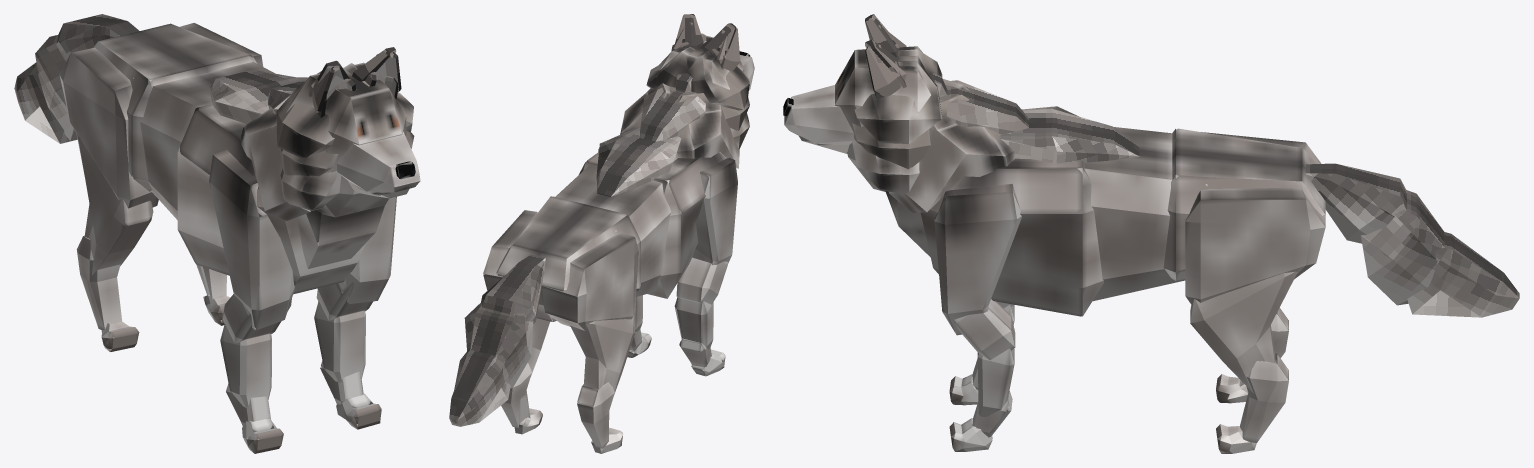
Rendered from LoupGrisMarron.fbx.
3 views of the same model, side by side, from view 1: azimuth 30°, elevation 25°; view 2: azimuth 150°, elevation 25°; view 3: azimuth 270°, elevation 25° (orthographic). The views are drawn at different scales.
Visible parts, largest first — view 1: beveled_cuboid_1, beveled_cuboid_6, beveled_cuboid, beveled_cuboid_20, beveled_cuboid_25, beveled_cuboid_2, beveled_cuboid_17, beveled_cuboid_24, beveled_cuboid_26, beveled_cuboid_53, beveled_cuboid_10, beveled_cuboid_7 (+23 smaller); view 2: beveled_cuboid, beveled_cuboid_20, beveled_cuboid_2, beveled_cuboid_1, beveled_cuboid_49, beveled_cuboid_6, beveled_cuboid_22, beveled_cuboid_23, beveled_cuboid_17, beveled_cuboid_21, beveled_cuboid_53, beveled_cuboid_48 (+18 smaller); view 3: beveled_cuboid_1, beveled_cuboid_13, beveled_cuboid_2, beveled_cuboid, beveled_cuboid_3, beveled_cuboid_15, beveled_cuboid_22, beveled_cuboid_46, beveled_cuboid_23, beveled_cuboid_49, beveled_cuboid_21, beveled_cuboid_51 (+15 smaller).
Part boxes in pixels (bbox=[...]): beveled_cuboid_1: bbox=[177, 104, 365, 294]; beveled_cuboid_6: bbox=[209, 149, 294, 330]; beveled_cuboid: bbox=[93, 23, 257, 191]; beveled_cuboid_20: bbox=[59, 47, 158, 208]; beveled_cuboid_25: bbox=[286, 62, 406, 217]; beveled_cuboid_2: bbox=[133, 62, 274, 219]; beveled_cuboid_17: bbox=[76, 133, 153, 274]; beveled_cuboid_24: bbox=[297, 205, 384, 268]; beveled_cuboid_26: bbox=[336, 131, 420, 196]; beveled_cuboid_53: bbox=[240, 108, 310, 220]; beveled_cuboid_10: bbox=[220, 323, 271, 407]; beveled_cuboid_7: bbox=[314, 301, 365, 382]; beveled_cuboid: bbox=[496, 196, 640, 321]; beveled_cuboid_20: bbox=[540, 232, 638, 330]; beveled_cuboid_2: bbox=[555, 165, 681, 296]; beveled_cuboid_1: bbox=[579, 152, 726, 298]; beveled_cuboid_49: bbox=[596, 127, 681, 196]; beveled_cuboid_6: bbox=[681, 158, 737, 265]; beveled_cuboid_22: bbox=[464, 302, 533, 389]; beveled_cuboid_23: bbox=[449, 348, 510, 426]; beveled_cuboid_17: bbox=[570, 315, 635, 393]; beveled_cuboid_21: bbox=[481, 254, 545, 323]; beveled_cuboid_53: bbox=[676, 93, 739, 168]; beveled_cuboid_48: bbox=[640, 86, 705, 141]; beveled_cuboid_1: bbox=[920, 158, 1103, 316]; beveled_cuboid_13: bbox=[1185, 188, 1325, 305]; beveled_cuboid_2: bbox=[1077, 127, 1207, 301]; beveled_cuboid: bbox=[1163, 128, 1325, 281]; beveled_cuboid_3: bbox=[934, 183, 1021, 335]; beveled_cuboid_15: bbox=[1190, 271, 1297, 393]; beveled_cuboid_22: bbox=[1360, 190, 1444, 305]; beveled_cuboid_46: bbox=[889, 94, 1014, 212]; beveled_cuboid_23: bbox=[1407, 232, 1519, 317]; beveled_cuboid_49: bbox=[1000, 106, 1139, 163]; beveled_cuboid_21: bbox=[1305, 163, 1406, 243]; beveled_cuboid_51: bbox=[854, 61, 942, 143].
Size of the model in its own units: 22.21 by 58.38 by 98.48.
Materials: 7 (7 with a texture image).
